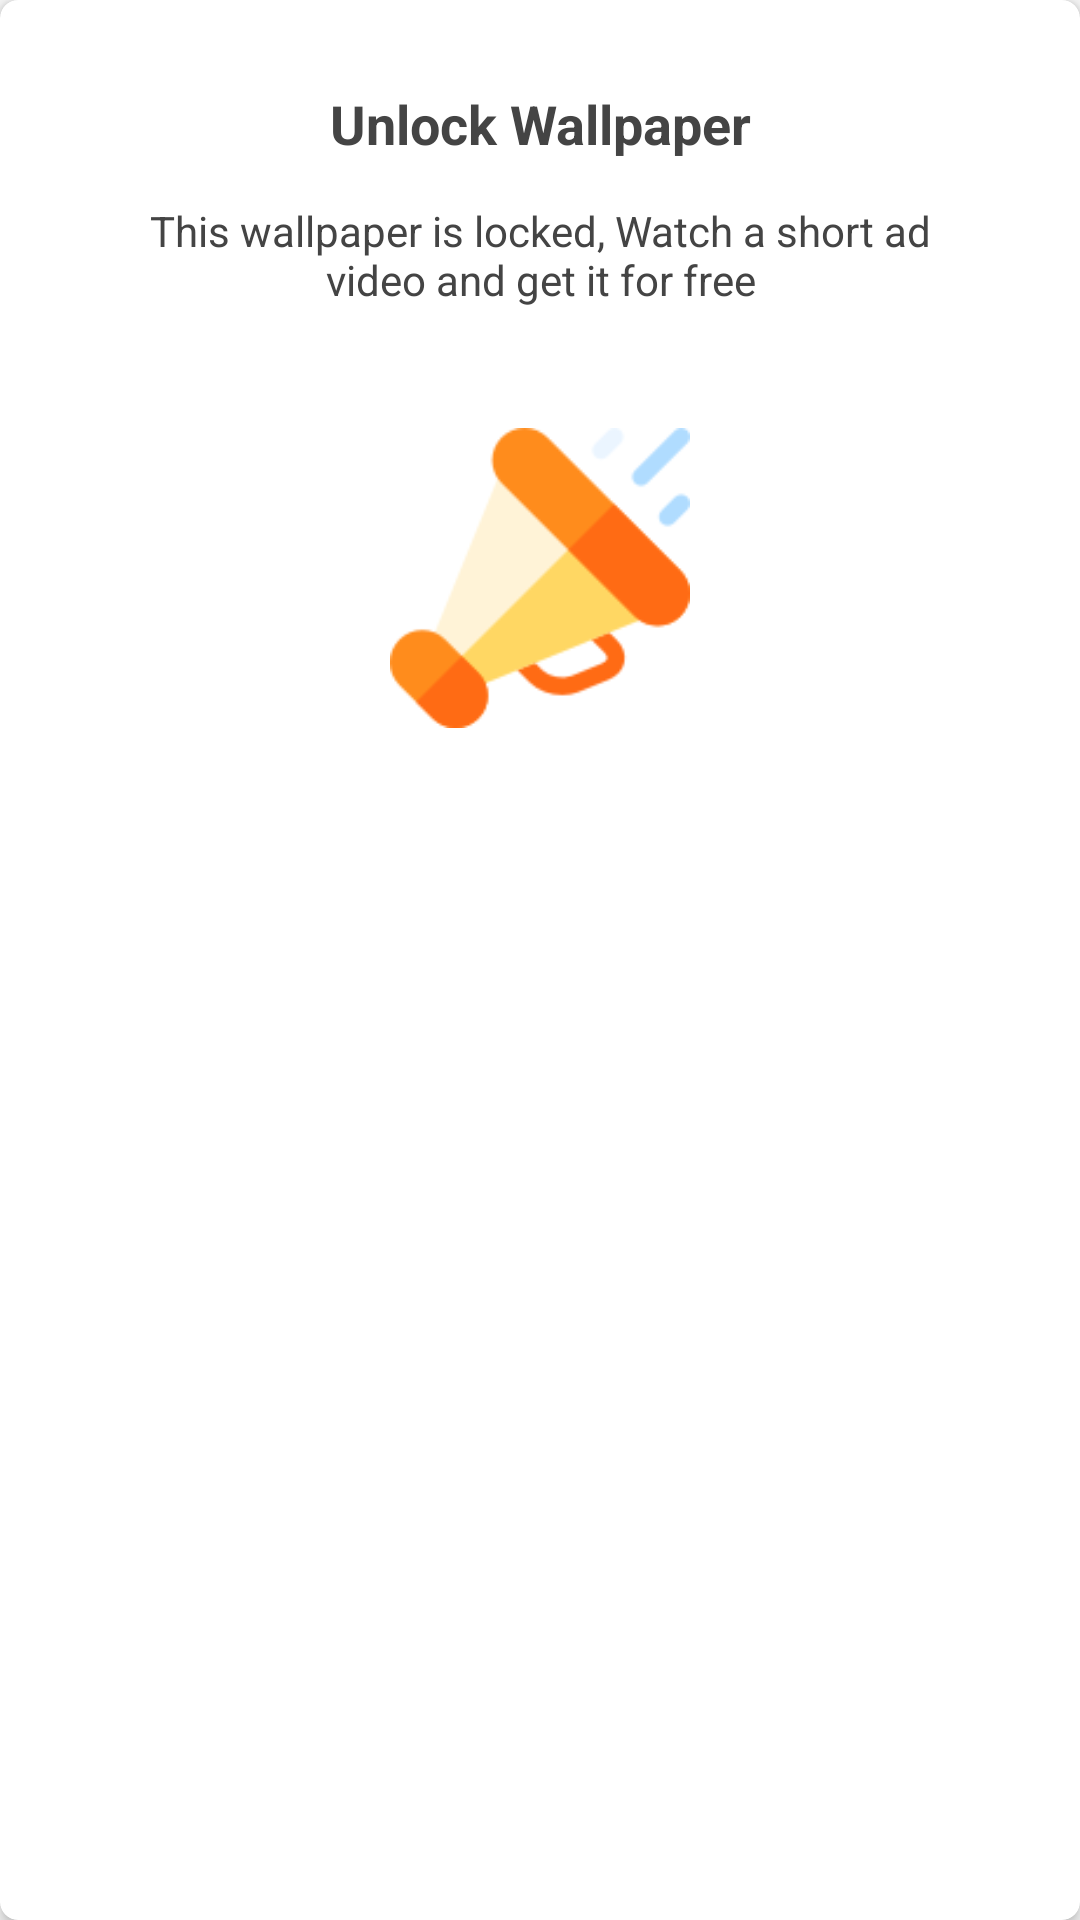

Where icons sit on this 1080 x 1920 app screen, as {"x1": x1, "y1": y1, "x2": x2, "y2": y2}:
promotion: {"x1": 390, "y1": 428, "x2": 690, "y2": 728}
